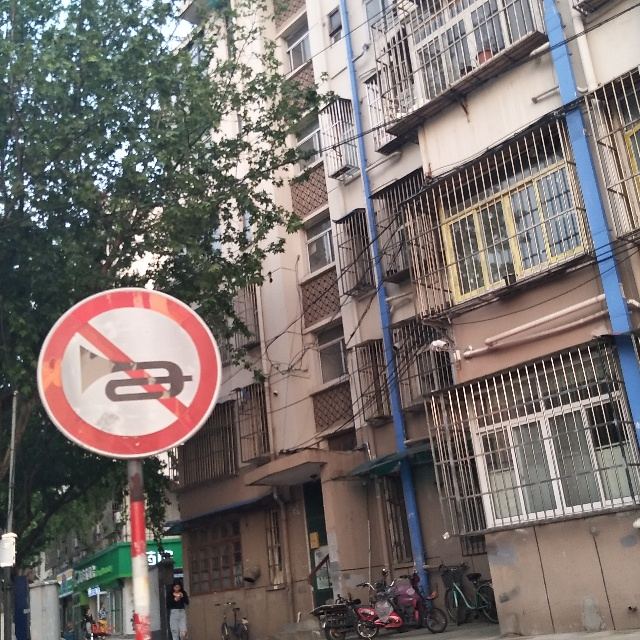nohonk: (40, 288, 224, 461)
